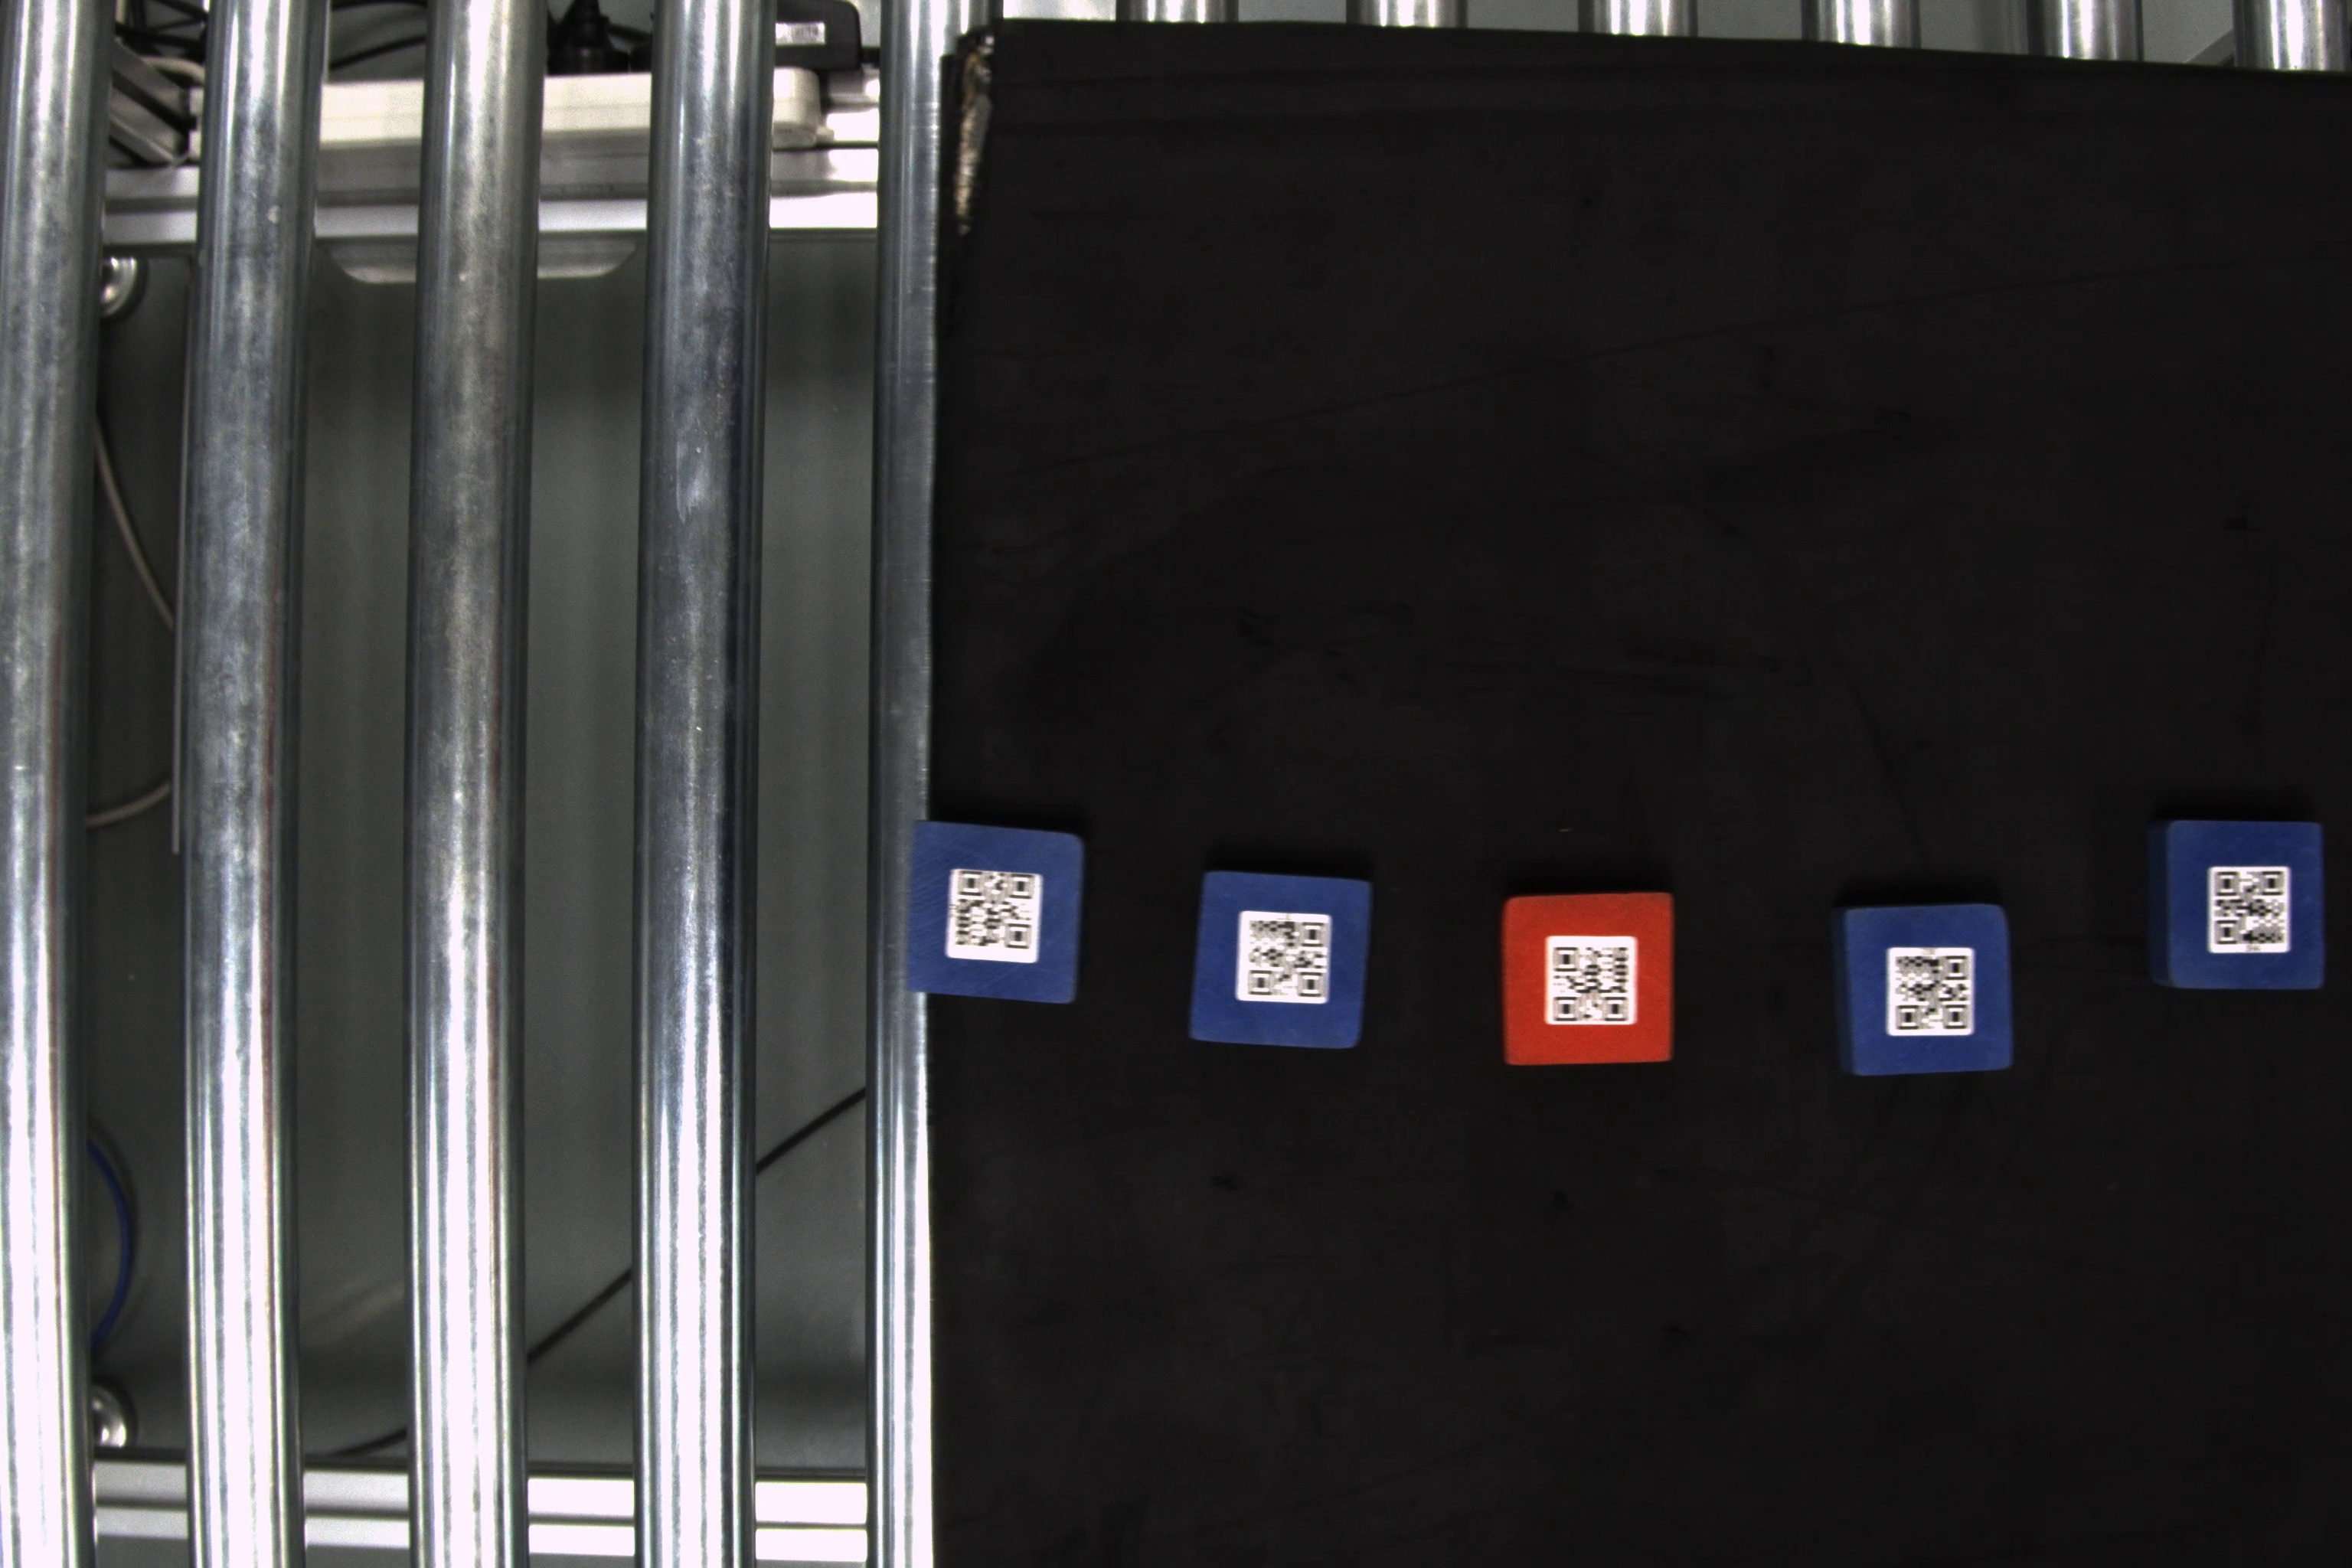wood: (905, 815, 1088, 1011), (1192, 868, 1379, 1057), (2135, 817, 2334, 992), (1832, 901, 2021, 1081), (1498, 889, 1678, 1066)
